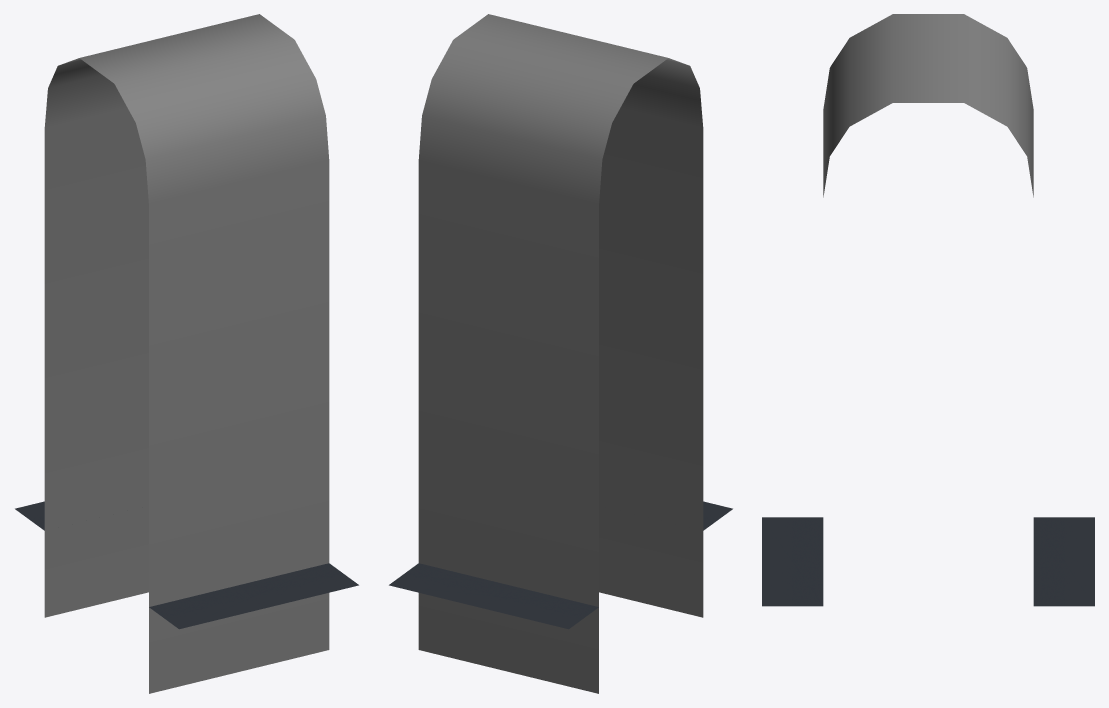
File: Wall02.fbx
The picture shows the model from 3 angles, left to right: view 1: azimuth 30°, elevation 25°; view 2: azimuth 150°, elevation 25°; view 3: azimuth 270°, elevation 25°; orthographic projection.
Parts seen in each view (by area): view 1: Wall02; view 2: Wall02; view 3: Wall02.
Part boxes in pixels (bbox=[...]): Wall02: bbox=[15, 14, 358, 693]; Wall02: bbox=[389, 14, 732, 693]; Wall02: bbox=[762, 14, 1094, 606].
Size of the model in its own units: 50 by 155 by 79.06.
